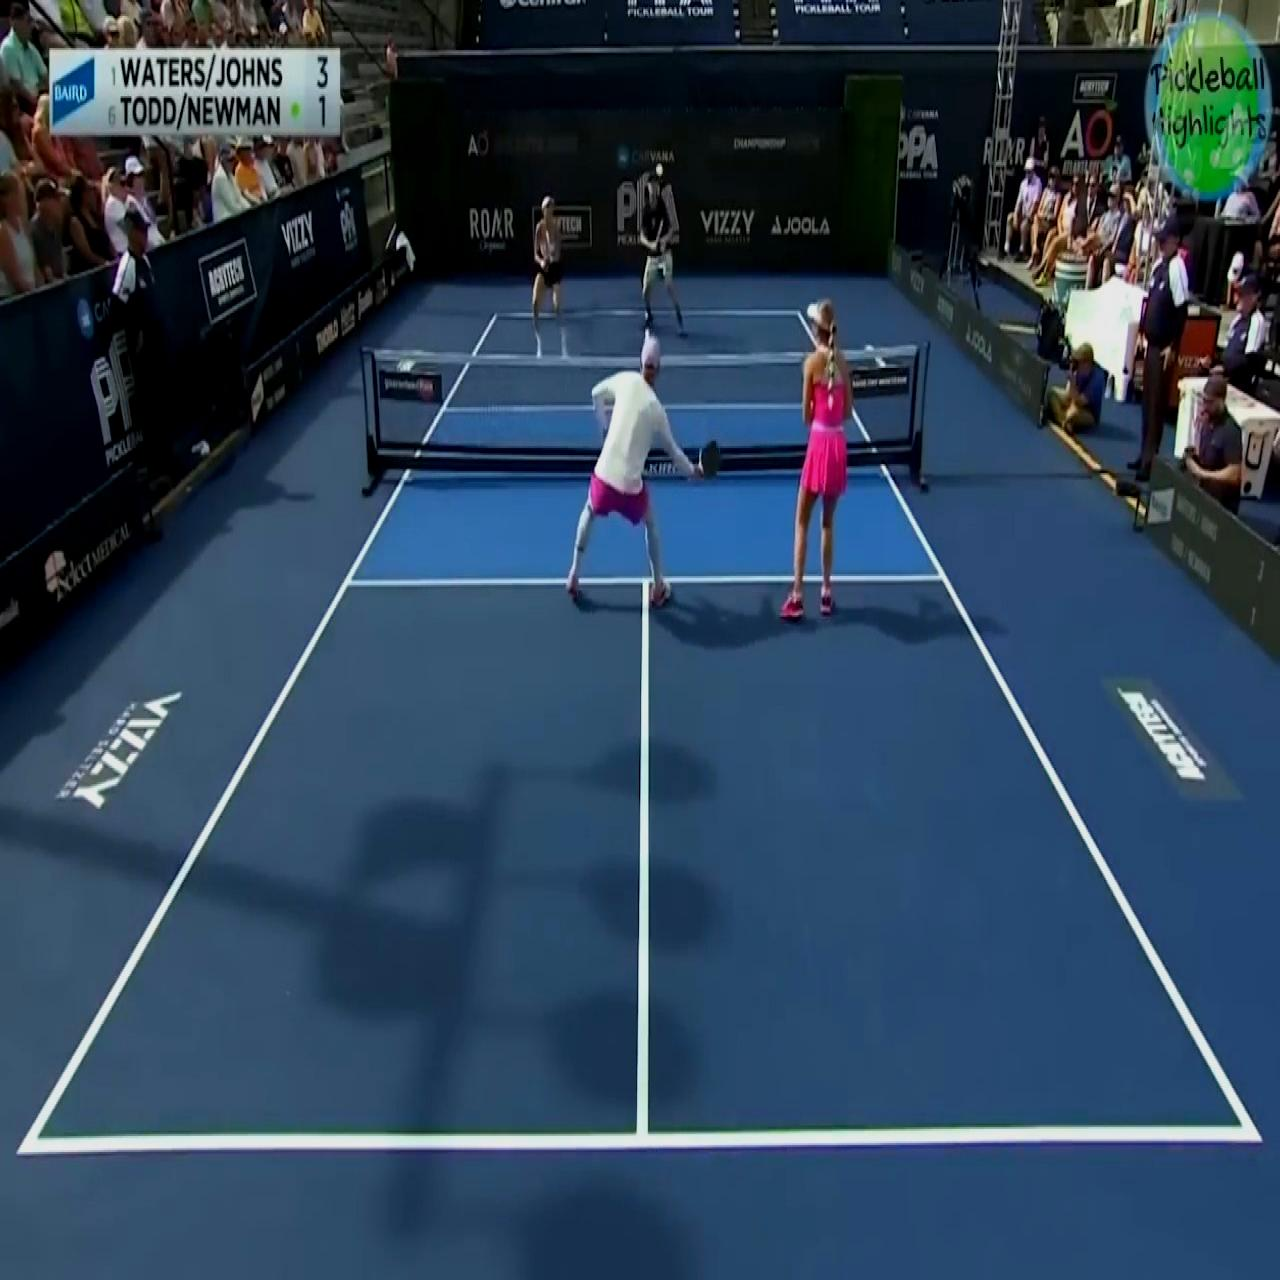Pickleball: (654, 158, 666, 182)
